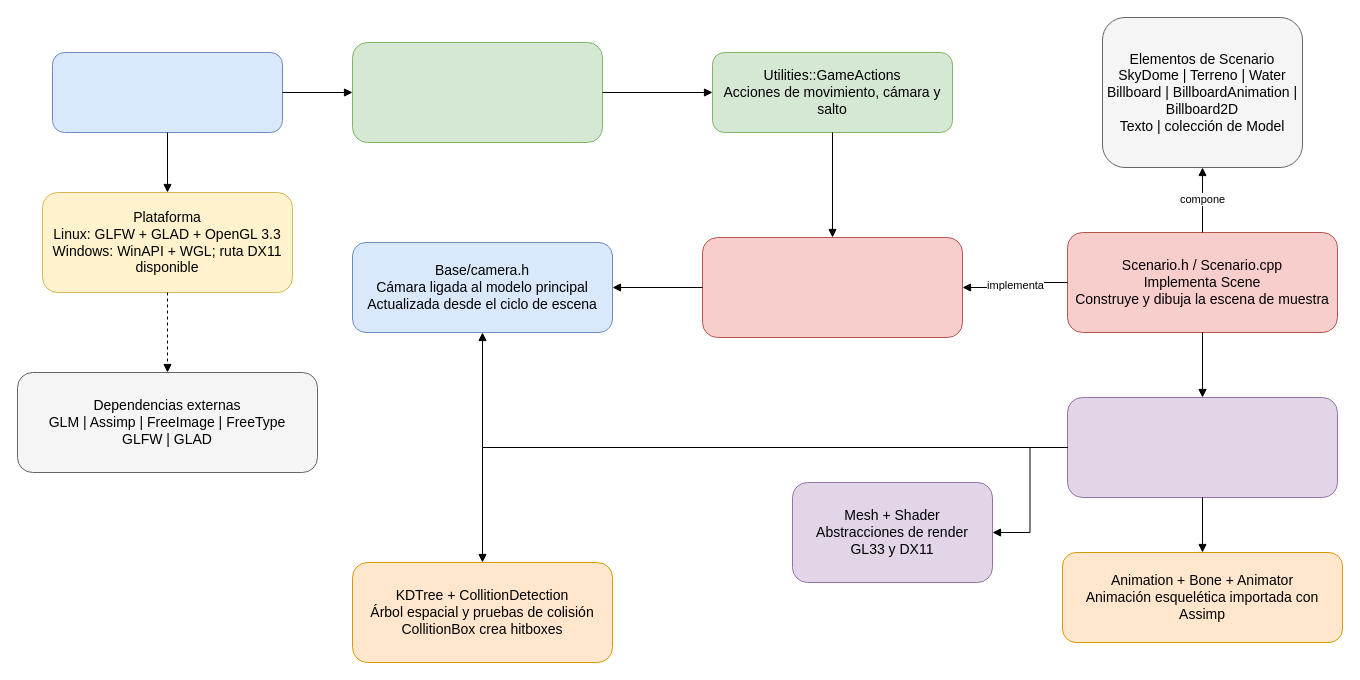
The diagram is 1360 pixels wide and 680 high, and some of its shapes have lost their labels. Each missing label, with the centre of its shape:
"Base/Model Carga Assimp, transformación, estado y dibujo Asociado a Camera" belongs at pixel 1202 447.
"Base/Scene.h Interfaz de escena update(): terreno, gravedad y colisiones" belongs at pixel 832 287.
"DemoTemplateOGL.cpp Punto de entrada y ciclo principal" belongs at pixel 167 92.
"InputDevices/KeyboardInput Teclado y mouse GamePadRR: XInput en Windows" belongs at pixel 477 92.
